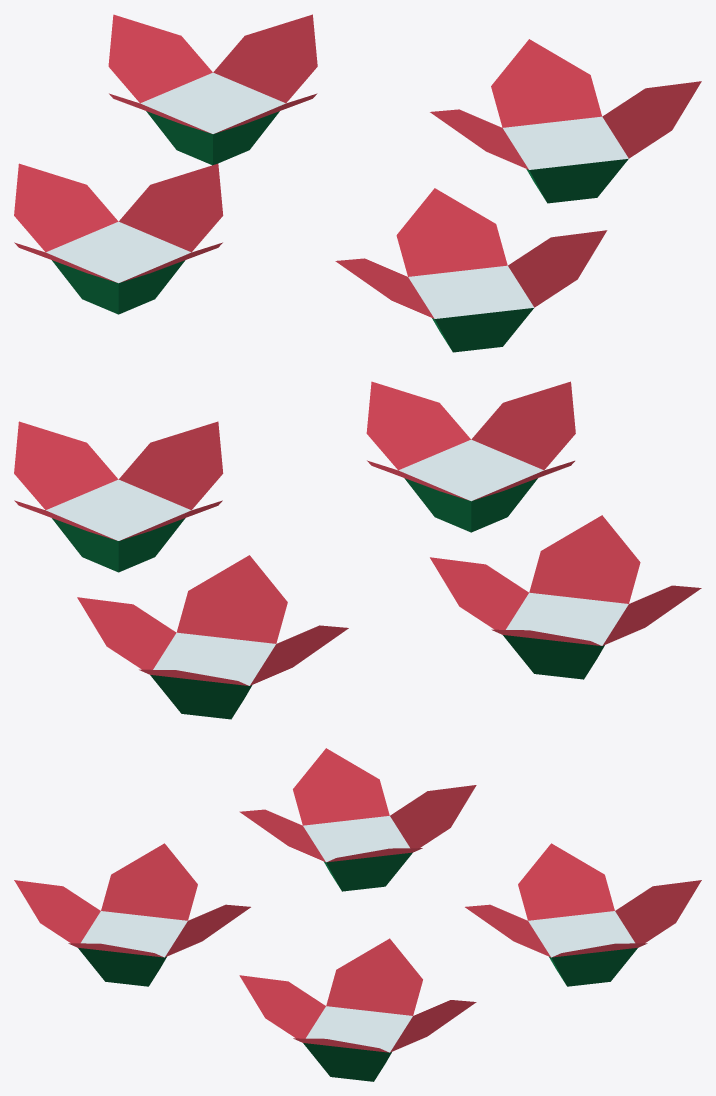
Rendered from flowersLow.glb.
3 renders of one model, top to bottom at view 1: azimuth 30°, elevation 25°; view 2: azimuth 150°, elevation 25°; view 3: azimuth 270°, elevation 25°, orthographic. The views are drawn at different scales.
Parts seen in each view (by area): view 1: flowersLow; view 2: flowersLow; view 3: flowersLow.
Part boxes in pixels (x1,y1,x2,y2): flowersLow: (14, 14, 701, 352); flowersLow: (14, 381, 701, 719); flowersLow: (14, 748, 701, 1081).
Size of the model in its own units: 0.7639 by 0.1 by 0.7639.
